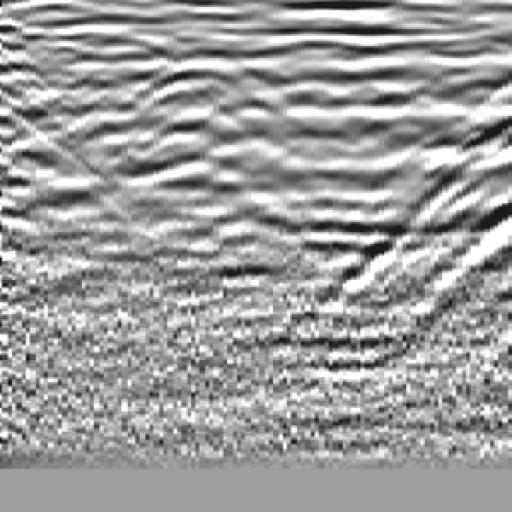metalic: (114, 35, 289, 265)
nonmetalic: (416, 40, 512, 286)
